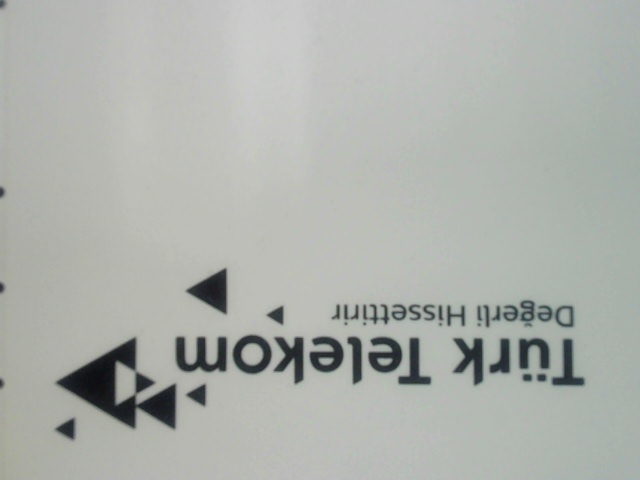AQ_TURKTelekom: (26, 260, 597, 449)
